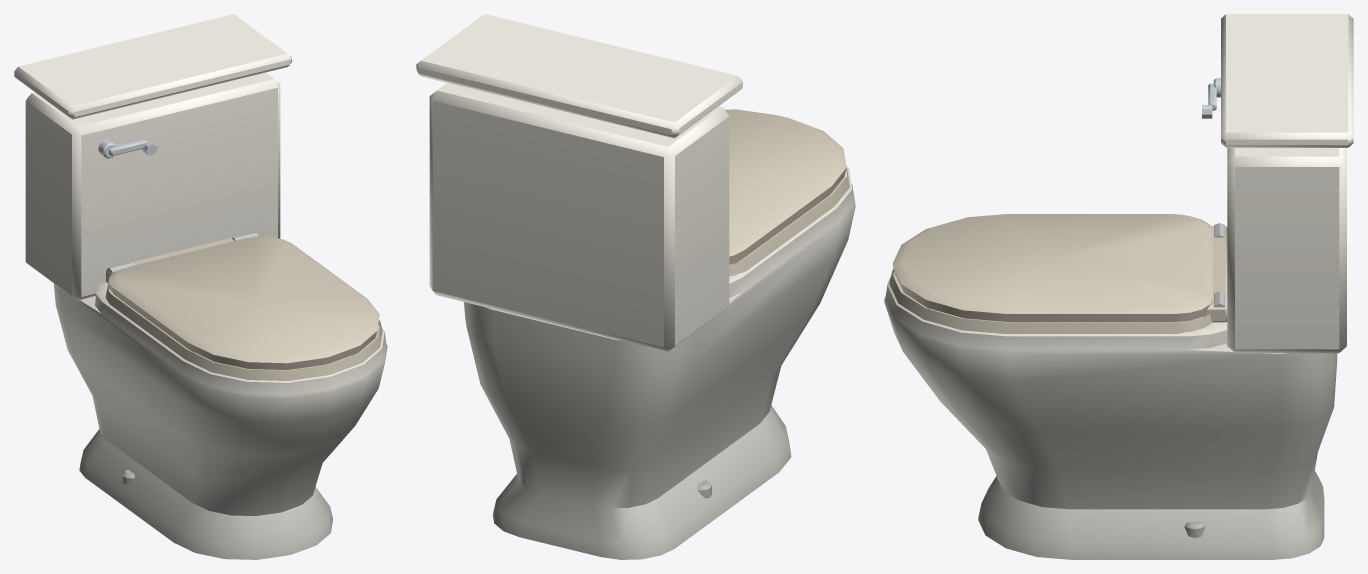
Rendered from toilet.glb.
3 views of the same model, side by side, from view 1: azimuth 30°, elevation 25°; view 2: azimuth 150°, elevation 25°; view 3: azimuth 270°, elevation 25° (orthographic). The views are drawn at different scales.
Visible parts, largest first — view 1: SM_Toilet_01; view 2: SM_Toilet_01; view 3: SM_Toilet_01.
Boxes of the visible parts, x1,y1,x2,y2 form: SM_Toilet_01: (14, 14, 387, 559); SM_Toilet_01: (416, 14, 855, 559); SM_Toilet_01: (884, 14, 1353, 559).
Size of the model in its own units: 0.45 by 0.76 by 0.725.
1 material, 1 textured.
